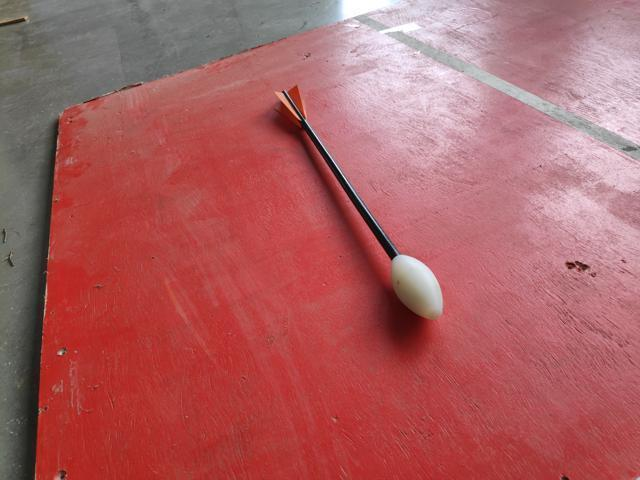Head: (386, 250, 446, 322)
Tail: (272, 84, 309, 124)
